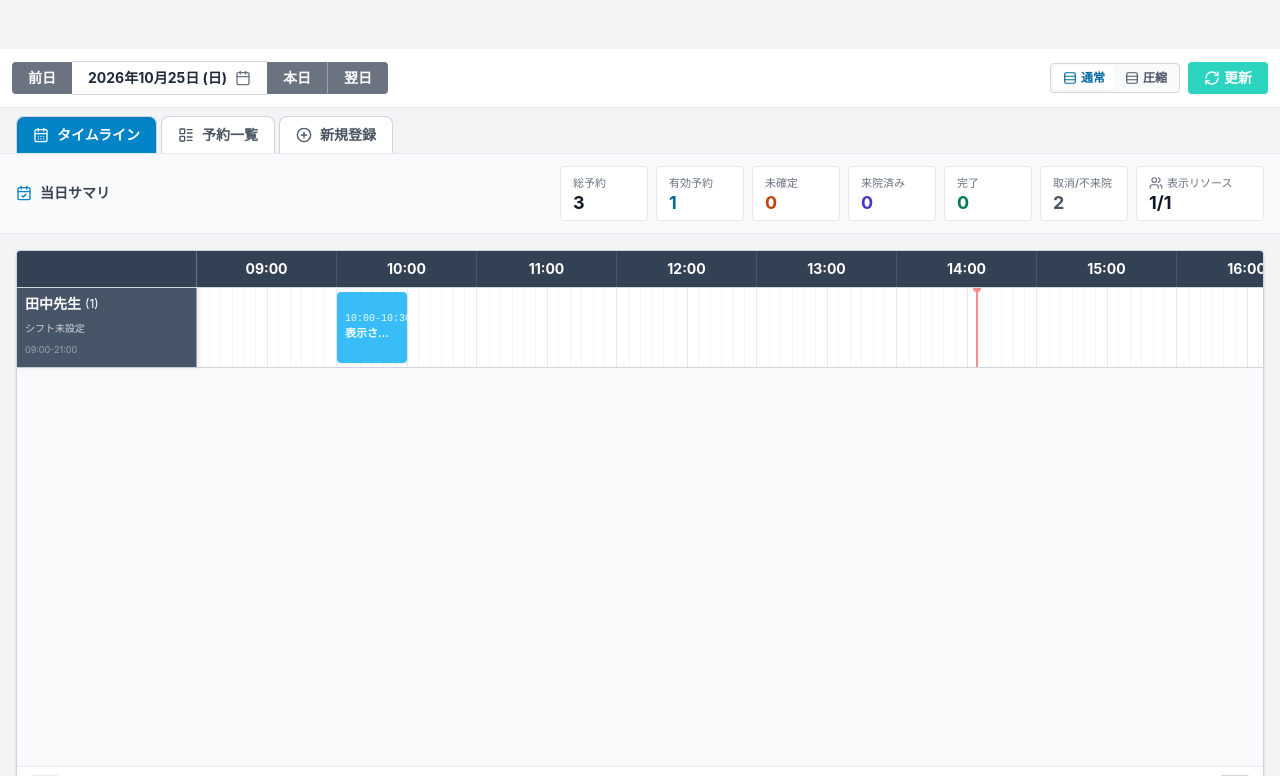
Scenario: ReservationsPage › ビュー切り替え › 取消・来院なしの予約は通常非表示で、取消/不来院から一覧と詳細を開ける
This screenshot has width=1280, height=776.
Expected: the text "表示される予約" is shown, [345,327,399,341]
Expected: the text "キャンセル予約" is not shown
What coordinates should you click on to do the following:
click the button "取消/不来院 2"
I would click on:
 (1084, 193)
Its box is [1040,166,1128,220].
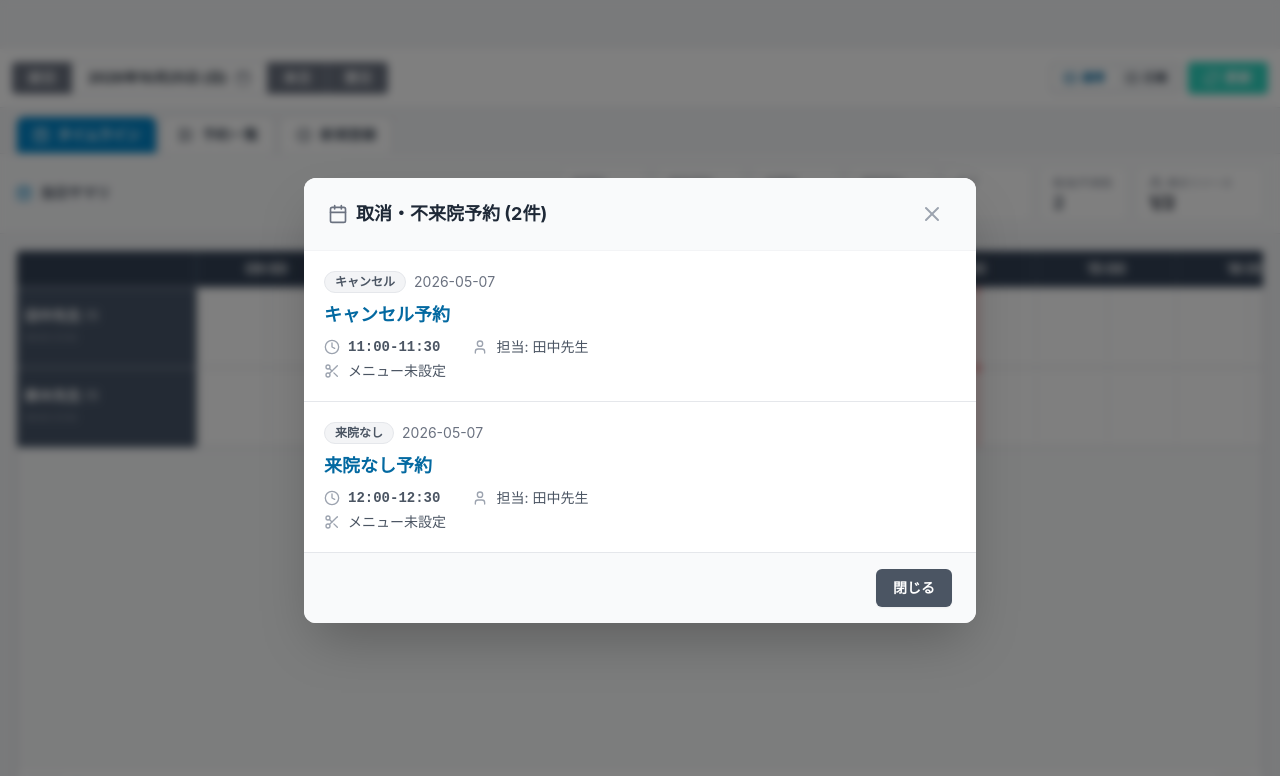
Result: the heading "取消・不来院予約 (2件)" is shown at [328,200,547,228]
Result: the button "キャンセル予約" is shown
Result: the button "来院なし予約" is shown at [324,452,432,480]
What coordinates should you click on to do the following:
click the button "キャンセル予約"
I would click on:
 (387, 314)
Its box is [324,300,450,328].
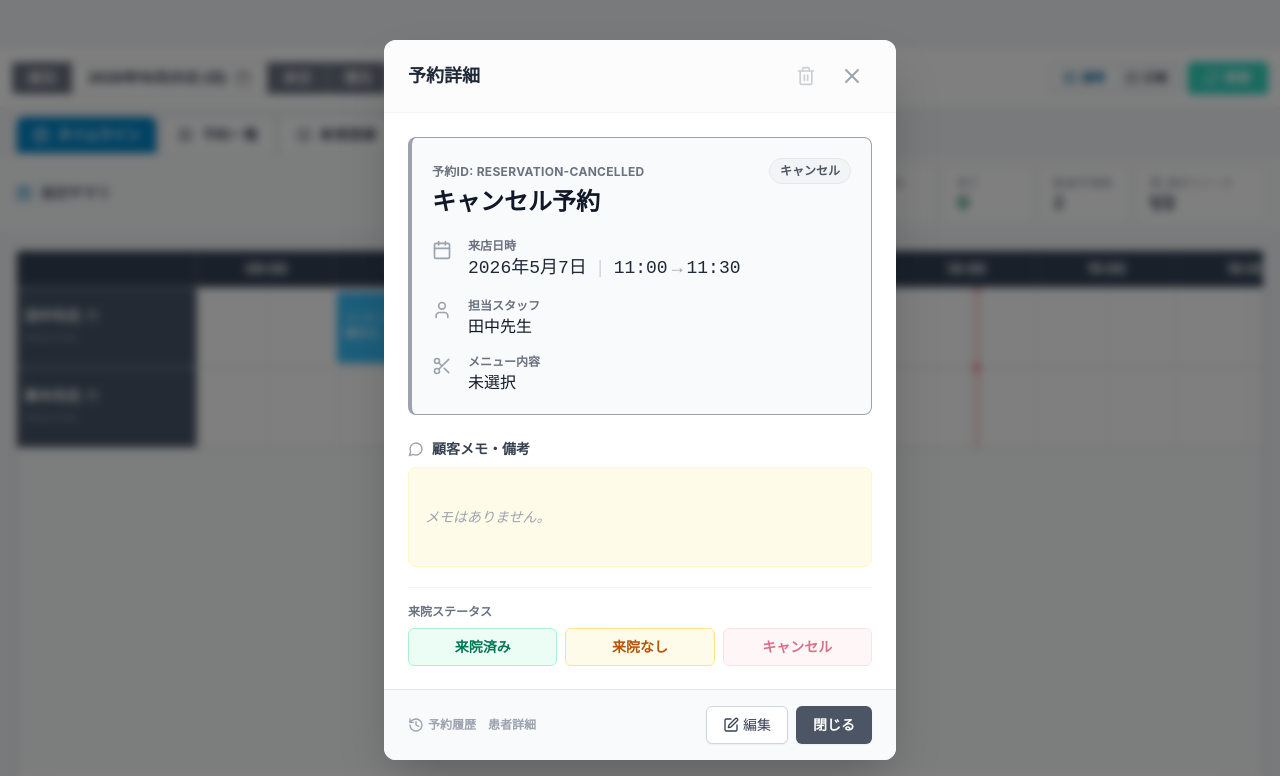
Result: the heading "予約詳細" is shown at [408,62,480,90]
